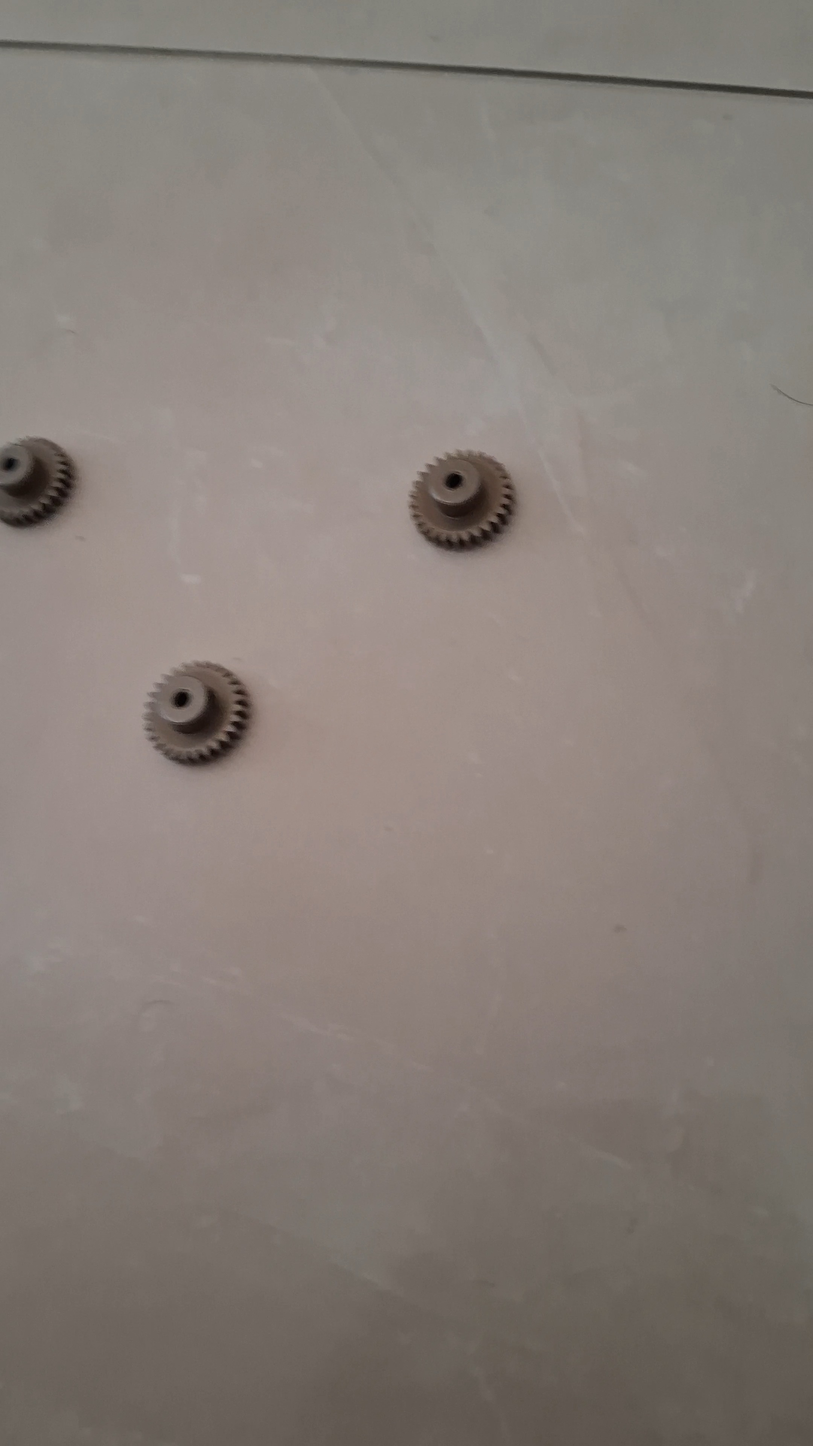spur gear: (145, 662, 250, 764), (410, 451, 515, 548), (0, 438, 73, 526)
